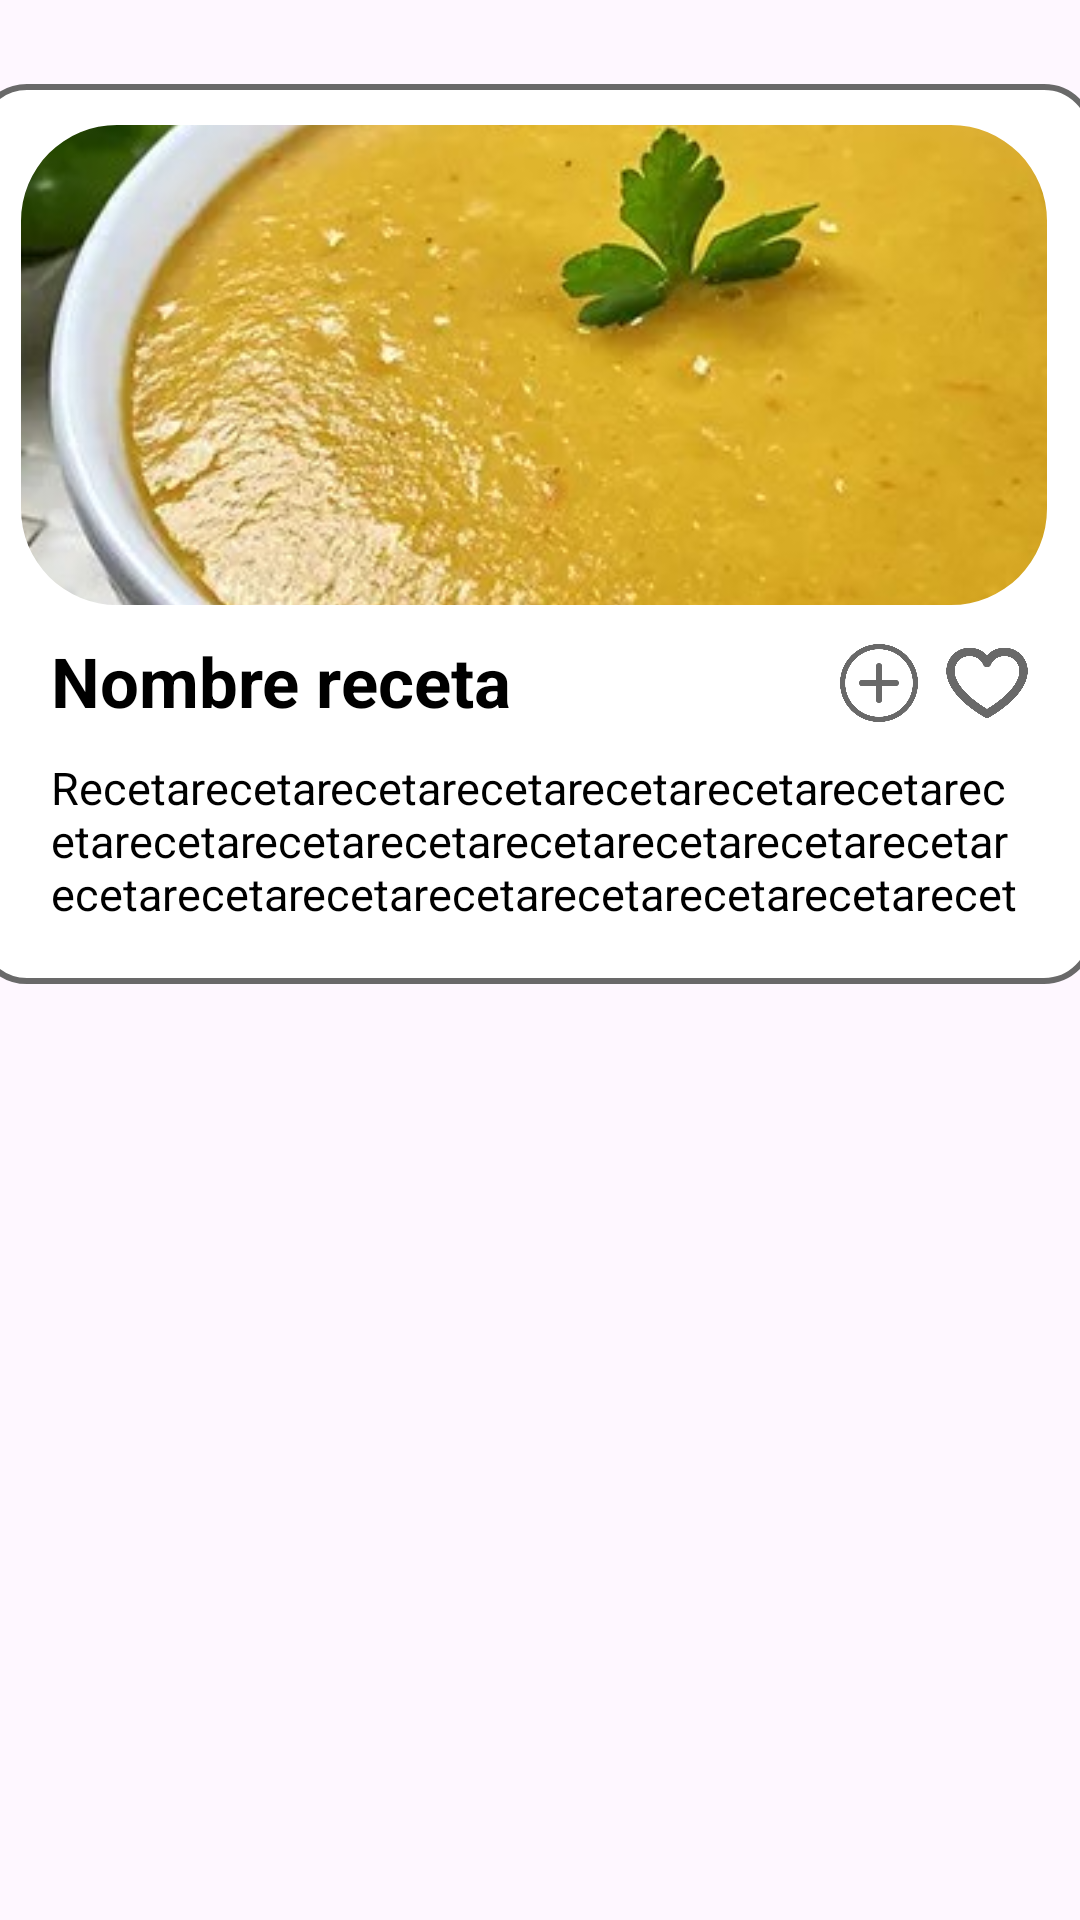

Icons on this 1080 × 1920 Android screen, each with its box as [left=x1, top=y1, right=x2, bottom=y2]:
empty add: [left=840, top=644, right=918, bottom=722]
empty heart: [left=946, top=648, right=1028, bottom=718]
